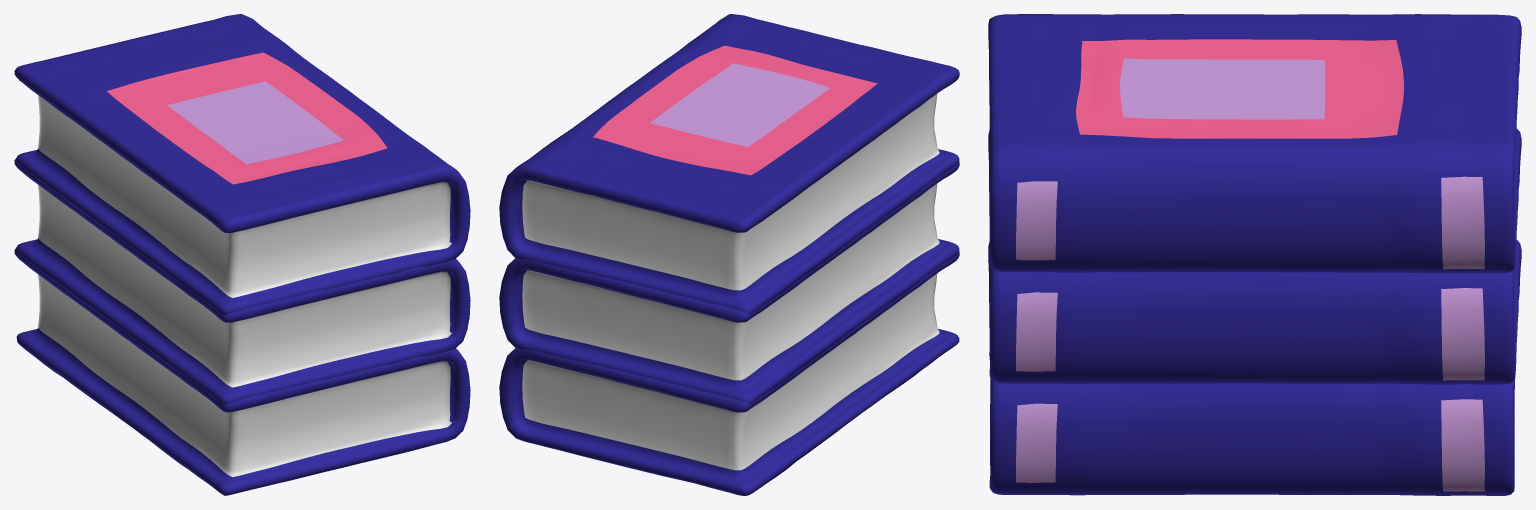
The model's file is libros3_CGIHC.fbx.
3 renders of one model, left to right at view 1: azimuth 30°, elevation 25°; view 2: azimuth 150°, elevation 25°; view 3: azimuth 270°, elevation 25°, orthographic. The views are drawn at different scales.
Visible parts, largest first — view 1: mesh.008; view 2: mesh.008; view 3: mesh.008.
Boxes of the visible parts, x1,y1,x2,y2 form: mesh.008: (14, 14, 470, 495); mesh.008: (499, 14, 959, 495); mesh.008: (988, 14, 1521, 495).
Size of the model in its own units: 67.67 by 71.5 by 99.9.
